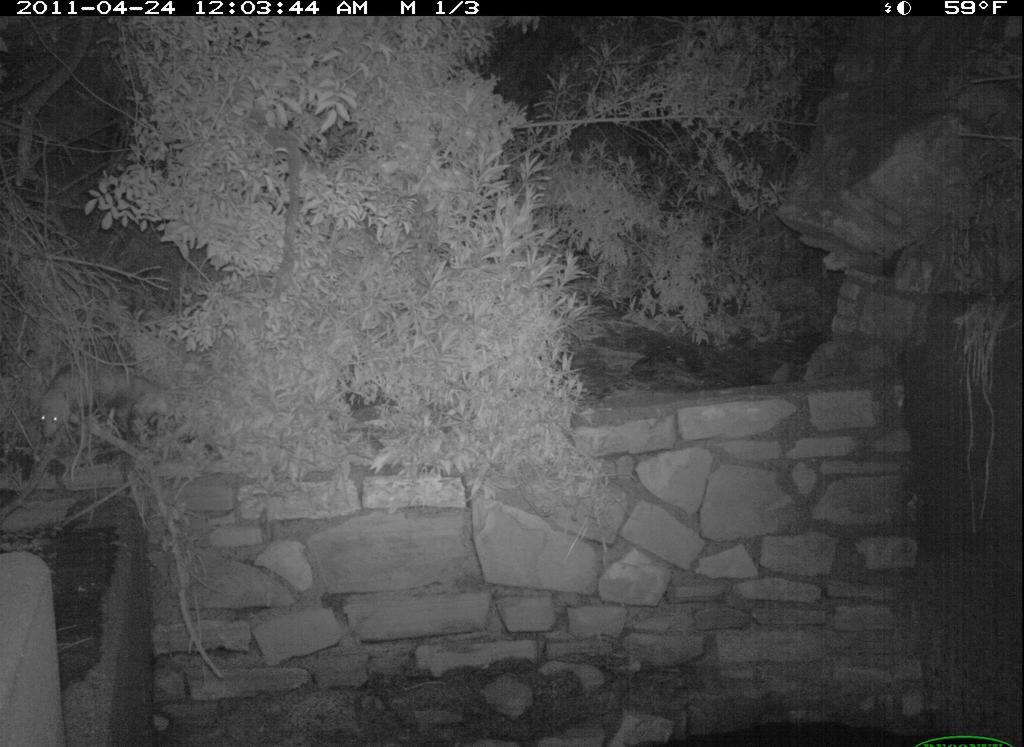opossum: (29, 354, 173, 442)
